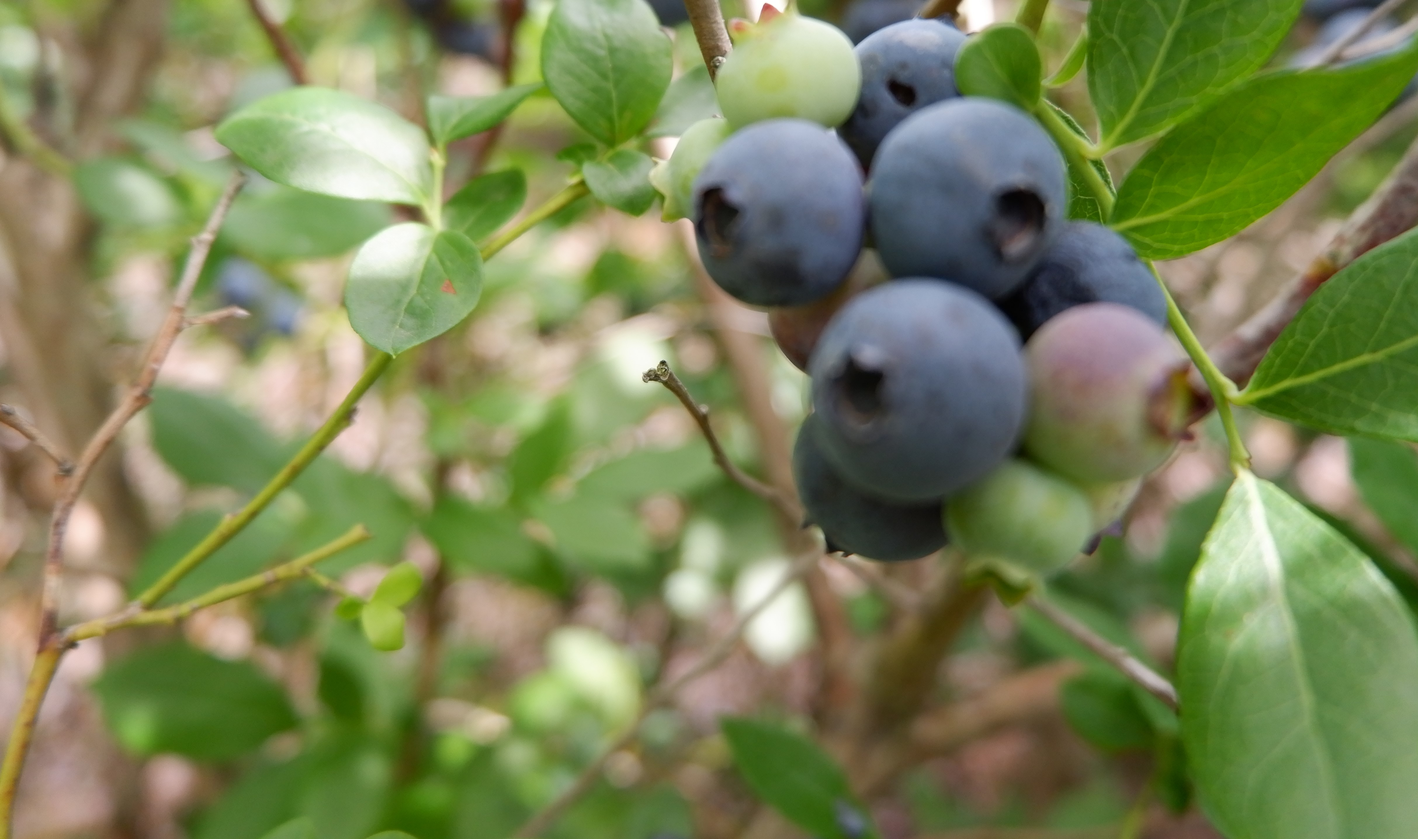Immature: (1027, 310, 1195, 481), (947, 463, 1091, 595), (716, 10, 860, 126), (770, 252, 885, 375), (656, 118, 734, 217), (1072, 478, 1137, 552)
Mature: (817, 282, 1025, 493), (872, 98, 1064, 297), (693, 120, 865, 305), (797, 416, 947, 561), (1005, 223, 1164, 337), (845, 22, 962, 169), (825, 1, 949, 43)
